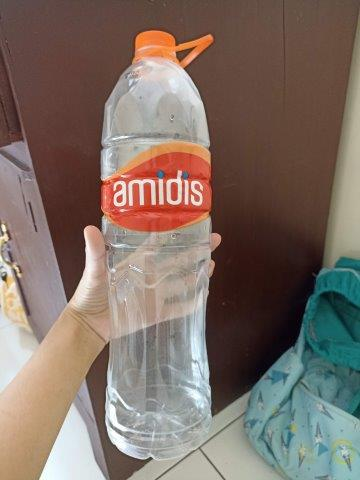botolplastik: (97, 31, 214, 456)
